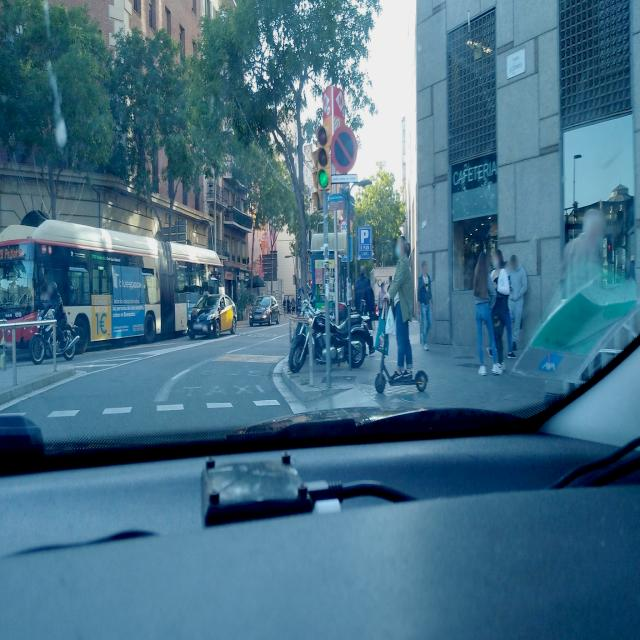bike: (288, 304, 343, 372), (314, 311, 366, 367), (30, 305, 76, 365), (288, 303, 326, 372)
car: (186, 292, 236, 340), (249, 295, 280, 326)
